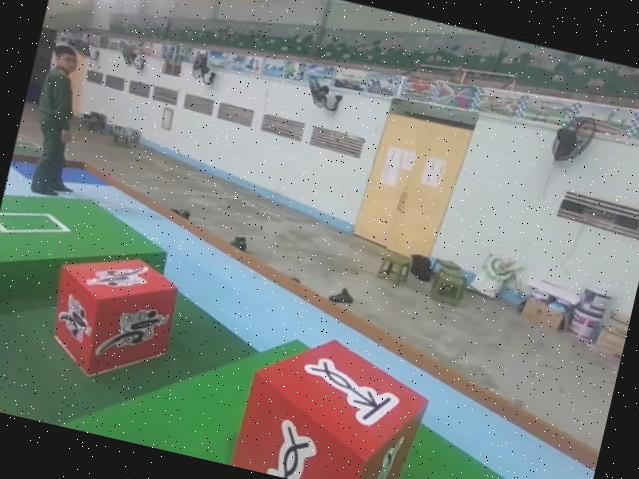R1: (34, 237, 190, 396)
R2 Real: (226, 316, 440, 479)
